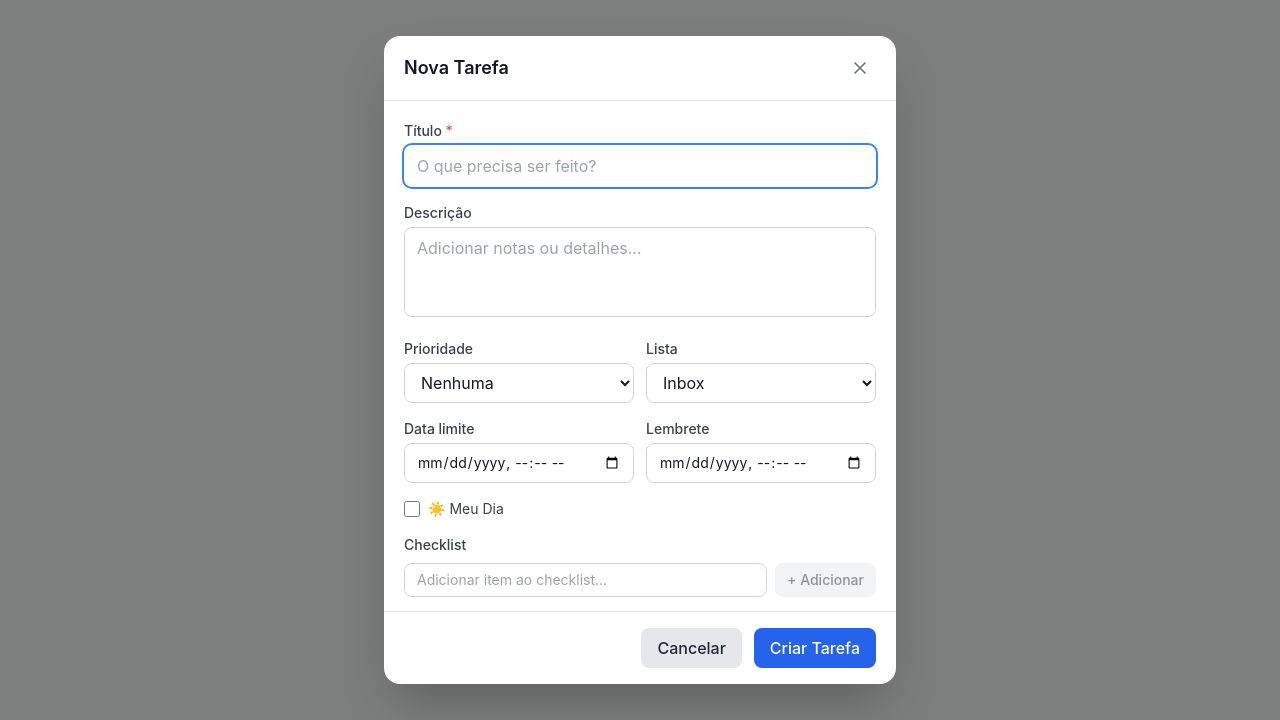
Test: TaskEditorModal › exibe erro ao tentar salvar sem título
The image size is (1280, 720).
What coordinates should you click on to do the following:
click the button "Criar Tarefa"
I would click on:
 (815, 648)
Its box is [754,628,876,668].
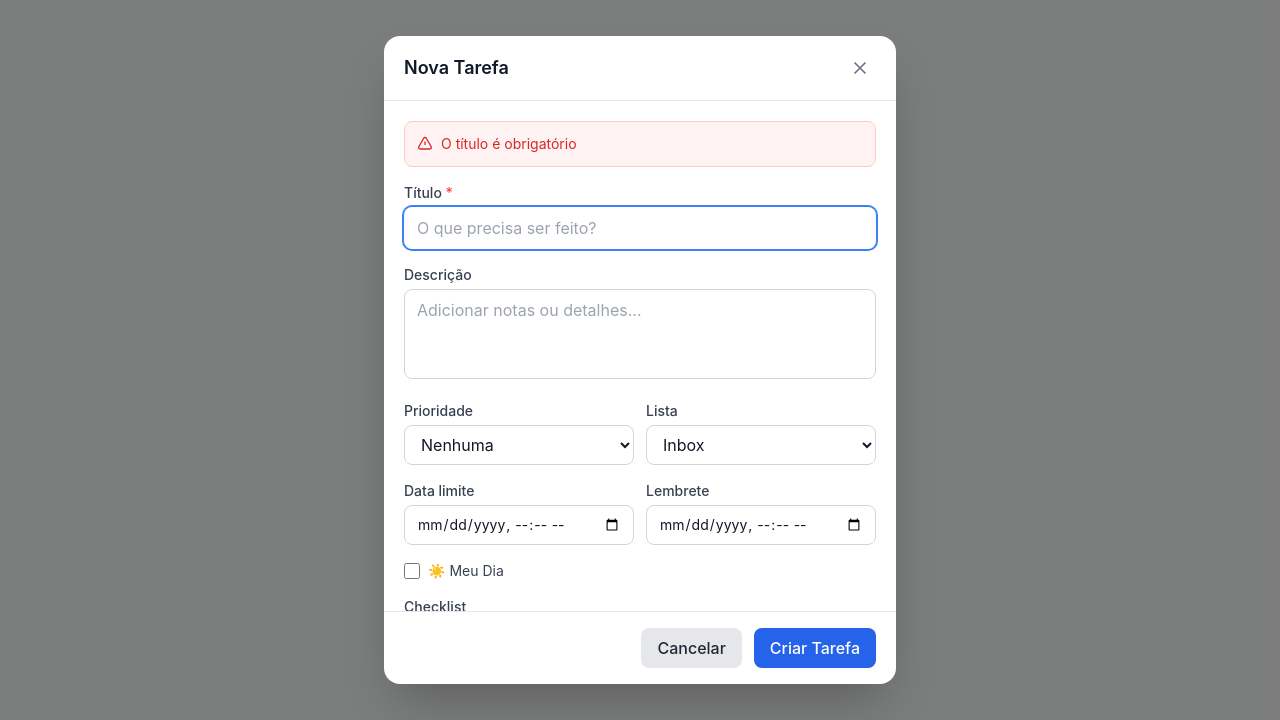
Check: the text "O título é obrigatório" is shown, box [404,121,876,167]
